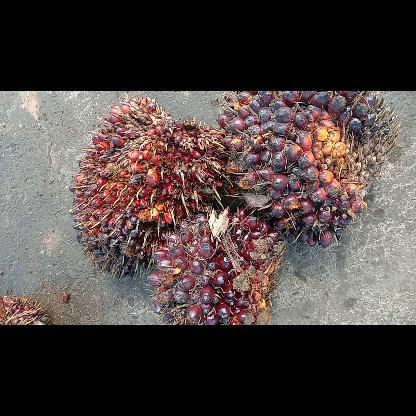Kurang masak: (214, 91, 396, 243), (148, 210, 284, 324)
TBS masak: (71, 96, 227, 278)
